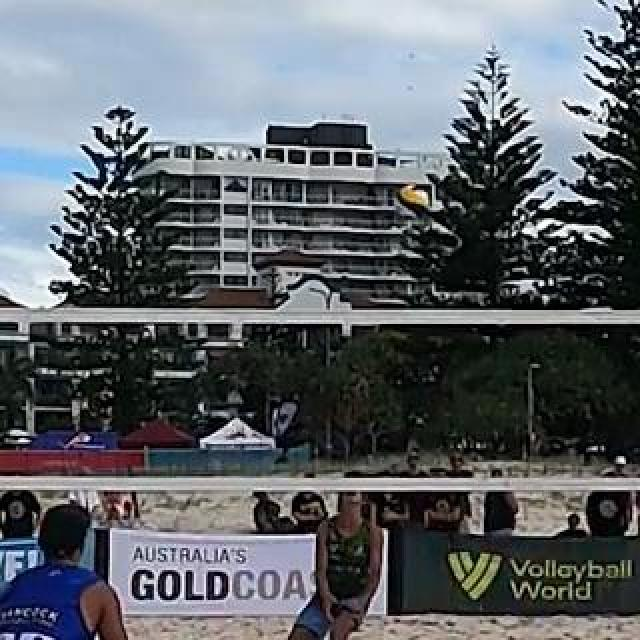volleyball: (399, 183, 429, 209)
